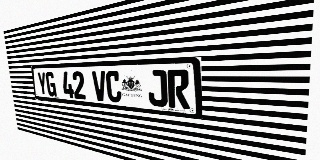2: (72, 71, 86, 100)
4: (61, 71, 74, 98)
C: (105, 71, 122, 103)
G: (45, 72, 57, 97)
J: (147, 70, 168, 107)
R: (167, 69, 190, 109)
V: (92, 71, 107, 102)
Y: (37, 72, 48, 96)
